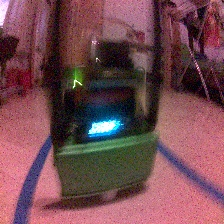rob: (52, 39, 160, 202)
